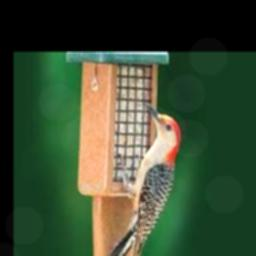Woodpecker: (106, 102, 180, 256)
